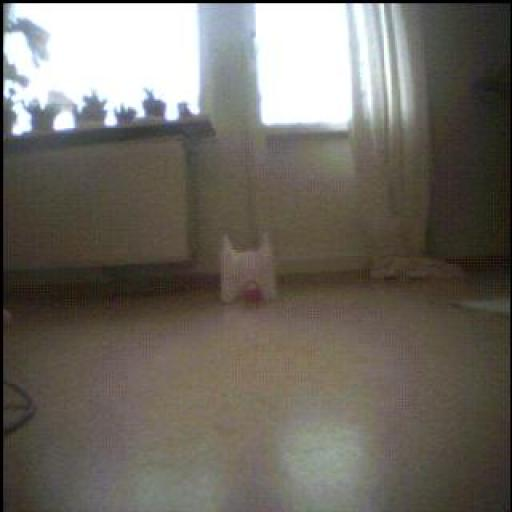Basket: (243, 283, 265, 304)
